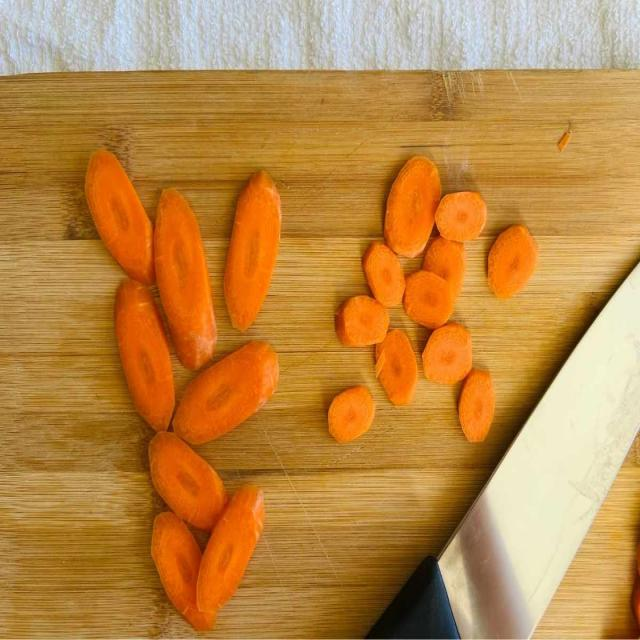carrot: (154, 188, 217, 369), (173, 342, 279, 444), (84, 148, 155, 285), (223, 170, 282, 330), (114, 280, 174, 431), (196, 486, 265, 613), (149, 433, 228, 533), (150, 513, 216, 632), (385, 156, 442, 256), (490, 225, 539, 298), (376, 329, 419, 406), (422, 322, 473, 384), (403, 270, 454, 329), (423, 234, 467, 300), (335, 295, 390, 346), (363, 242, 406, 307), (328, 386, 376, 442), (459, 368, 495, 442), (435, 191, 487, 241), (375, 347, 386, 377)
